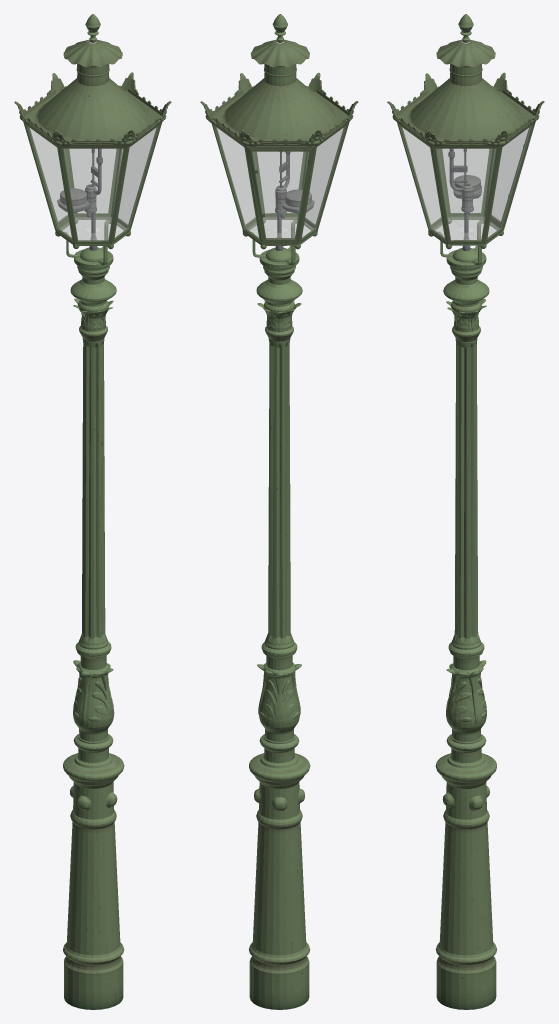
The model's file is gaslaterne_typ_duesseldorf.obj.
3 views of the same model, side by side, from view 1: azimuth 30°, elevation 25°; view 2: azimuth 150°, elevation 25°; view 3: azimuth 270°, elevation 25° (orthographic).
Visible parts, largest first — view 1: mast, glas, dach, gehaeuse, ornamente, dachhaube, gasdruckzuender, zuleitung; view 2: mast, glas, dach, gehaeuse, ornamente, dachhaube, gasdruckzuender, zuleitung; view 3: mast, glas, dach, gehaeuse, ornamente, dachhaube, gasdruckzuender, zuleitung.
Boxes of the visible parts, bbox=[...] form: mast: bbox=[63, 247, 124, 1009]; glas: bbox=[28, 126, 158, 240]; dach: bbox=[35, 64, 150, 140]; gehaeuse: bbox=[23, 88, 162, 249]; ornamente: bbox=[14, 72, 171, 146]; dachhaube: bbox=[63, 39, 122, 67]; gasdruckzuender: bbox=[57, 184, 96, 217]; zuleitung: bbox=[89, 148, 102, 250]; mast: bbox=[249, 247, 310, 1009]; glas: bbox=[215, 126, 345, 238]; dach: bbox=[222, 64, 338, 140]; gehaeuse: bbox=[209, 88, 349, 249]; ornamente: bbox=[200, 72, 358, 146]; dachhaube: bbox=[250, 39, 309, 67]; gasdruckzuender: bbox=[275, 185, 314, 218]; zuleitung: bbox=[275, 151, 290, 250]; mast: bbox=[435, 248, 496, 1009]; glas: bbox=[401, 126, 531, 240]; dach: bbox=[408, 64, 523, 140]; gehaeuse: bbox=[396, 88, 535, 249]; ornamente: bbox=[387, 72, 544, 146]; dachhaube: bbox=[436, 39, 495, 67]; gasdruckzuender: bbox=[453, 175, 481, 214]; zuleitung: bbox=[448, 148, 470, 251].
Size of the model in its own units: 0.5405 by 4.25 by 0.6166.
Materials: 15 (14 with a texture image).
